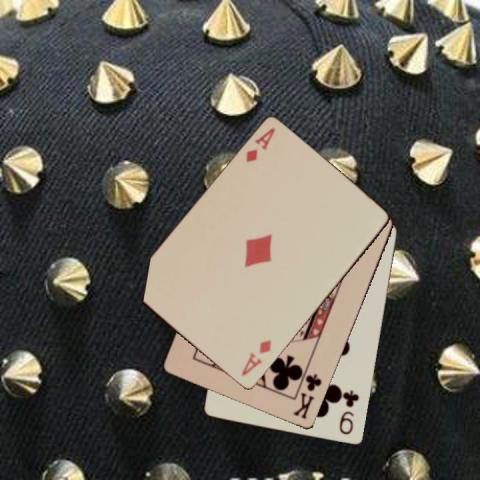9c: (337, 387, 361, 437)
Ad: (238, 337, 273, 378), (243, 124, 276, 164)
Kc: (291, 371, 323, 421)
